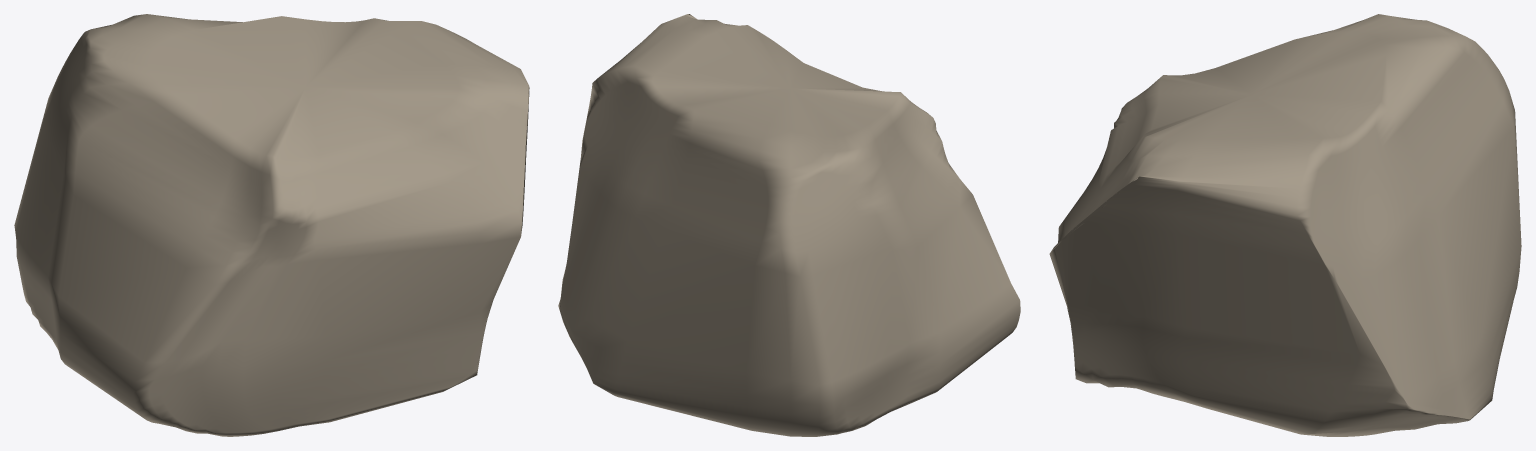
Rendered from landscape.rock.gritstone_08.glb.
3 renders of one model, left to right at view 1: azimuth 30°, elevation 25°; view 2: azimuth 150°, elevation 25°; view 3: azimuth 270°, elevation 25°, orthographic. The views are drawn at different scales.
Visible parts, largest first — view 1: main__stone_a98; view 2: main__stone_a98; view 3: main__stone_a98.
Boxes of the visible parts, x1=… form: main__stone_a98: x1=14, y1=14, x2=529, y2=436; main__stone_a98: x1=558, y1=14, x2=1020, y2=436; main__stone_a98: x1=1049, y1=14, x2=1521, y2=436.
Size of the model in its own units: 0.9611 by 0.7079 by 0.9606.
